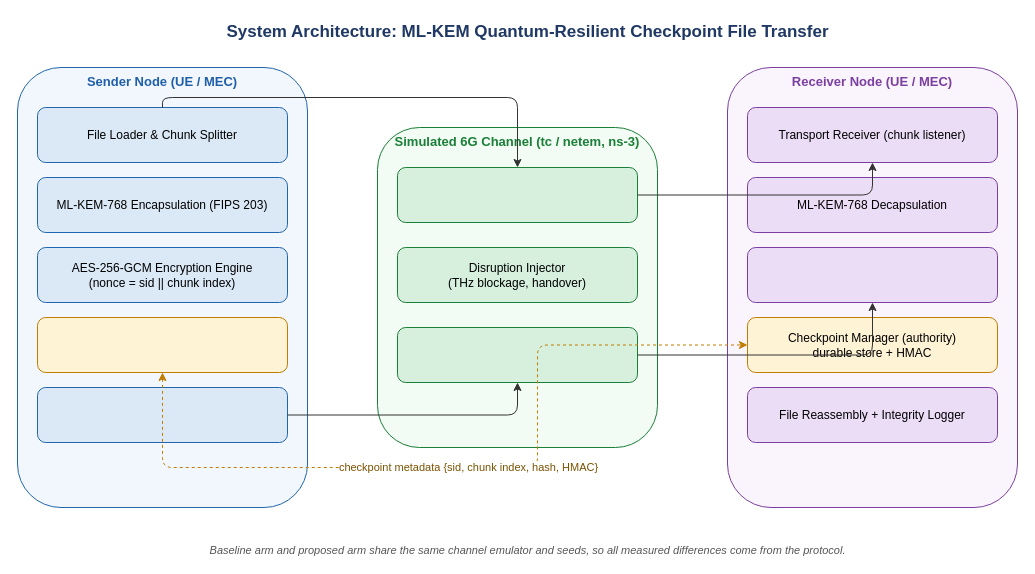
This 1035x574 diagram has some shape labels left out. Each missing label, with the box of its shape:
AES-256-GCM Decrypt + Tag / Hash Verification: (746, 246, 998, 302)
Checkpoint Manager (sender state): (36, 316, 288, 372)
Latency / Jitter Model: (396, 166, 638, 222)
Packet Loss & Reordering Emulator: (396, 326, 638, 382)
Transport Sender + Performance Logger: (36, 386, 288, 442)
